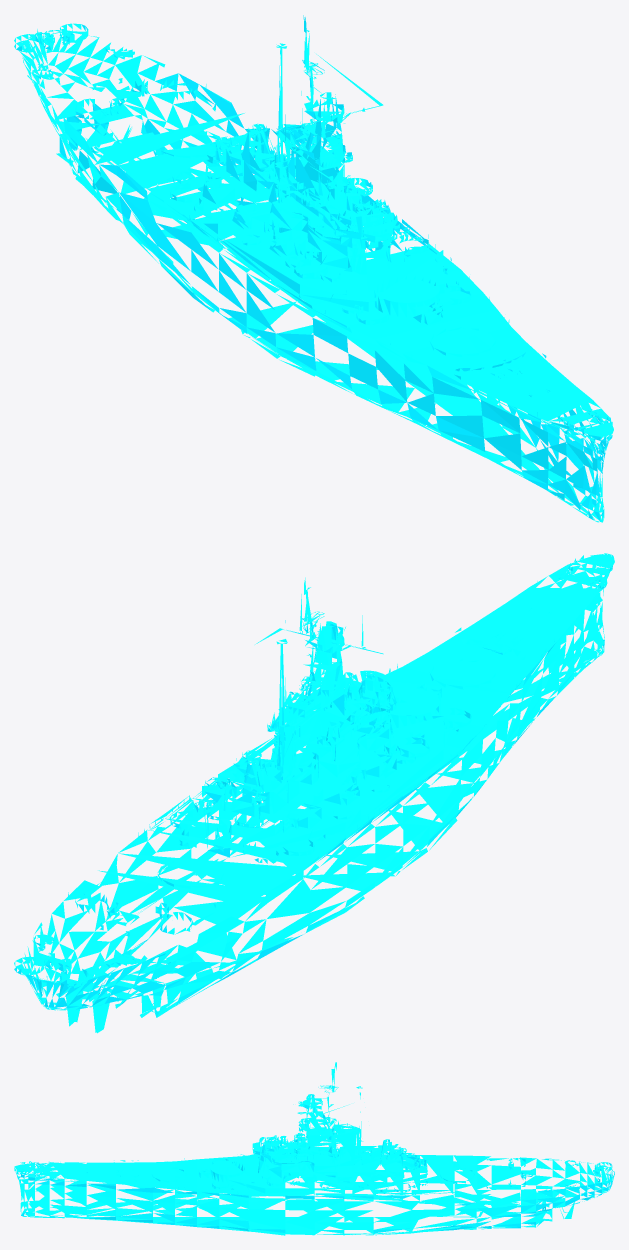
The model's file is Black_Massachusetts.glb.
3 renders of one model, top to bottom at view 1: azimuth 30°, elevation 25°; view 2: azimuth 150°, elevation 25°; view 3: azimuth 270°, elevation 25°, orthographic. The views are drawn at different scales.
Bounding box in the file's own units: 2.21 × 3.93 × 13.81.
